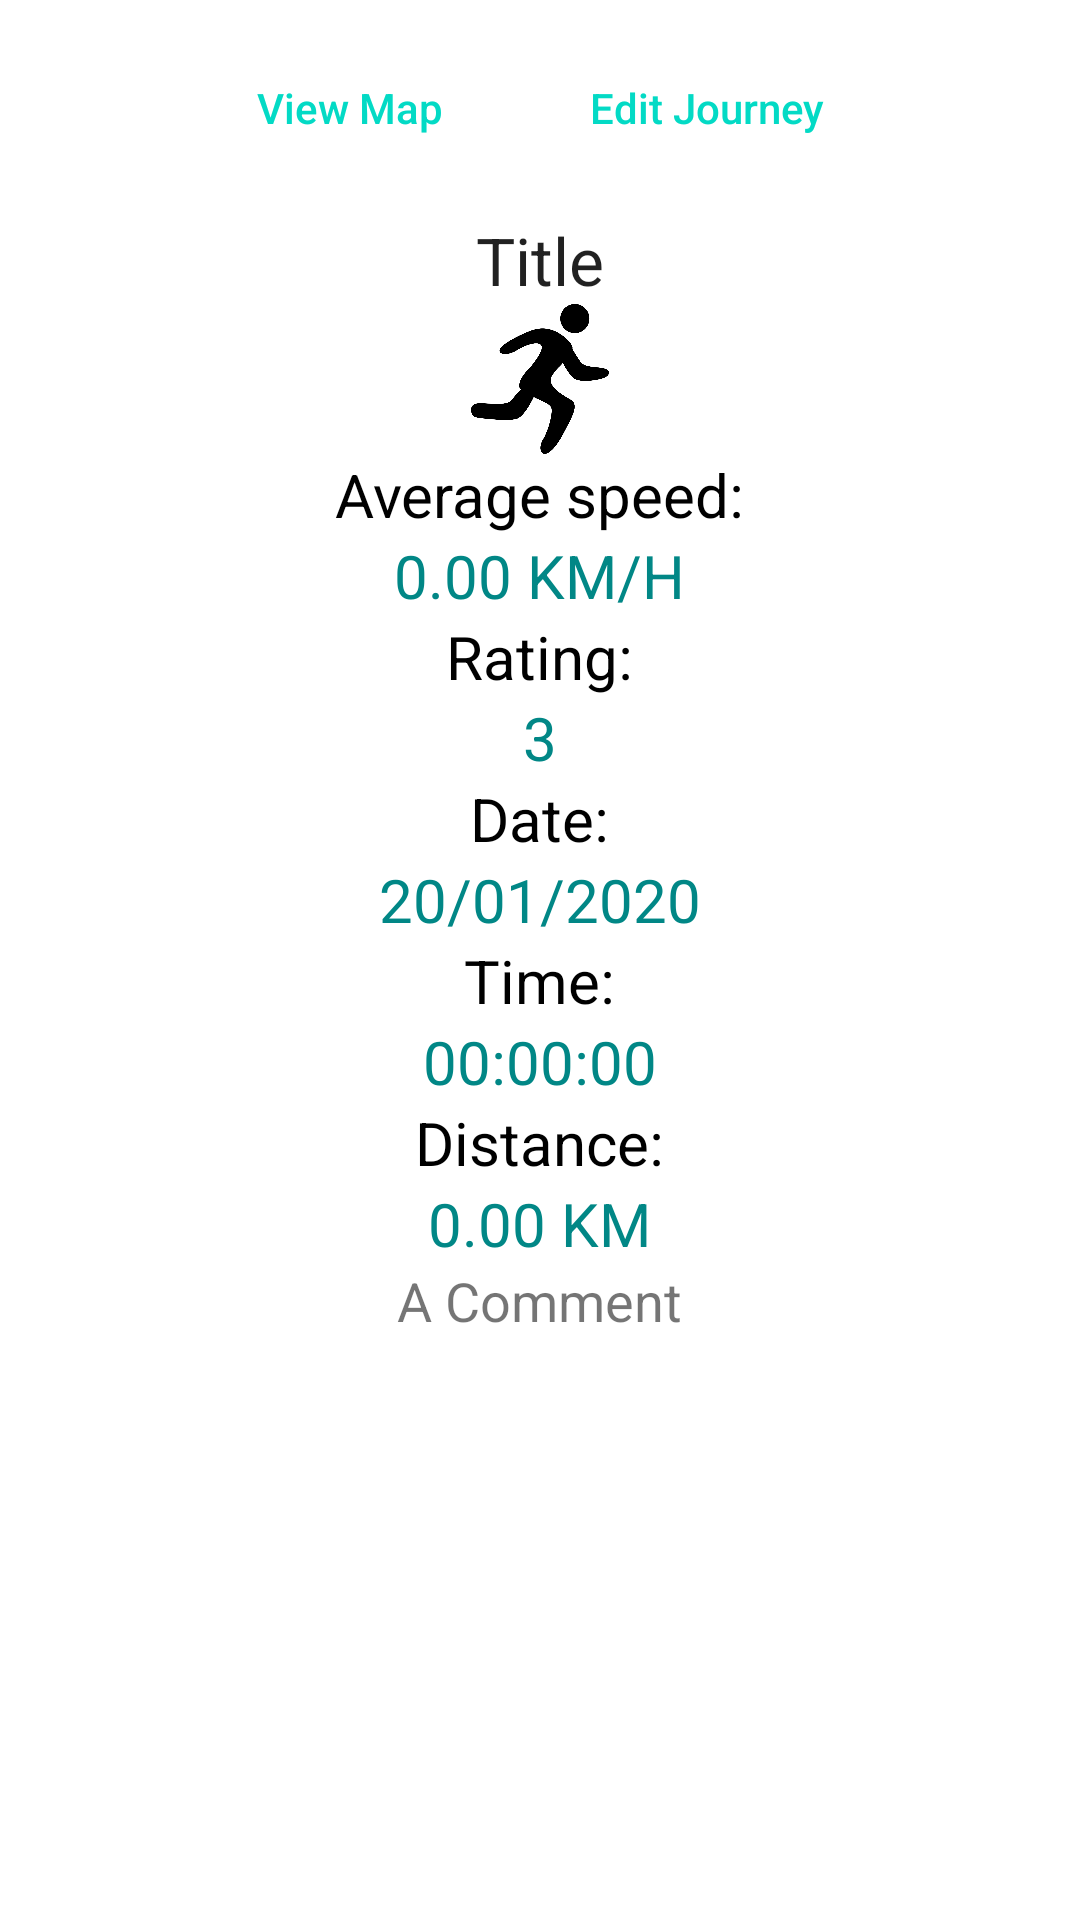

Screen size 1080px x 1920px. Icon name, then its center in pixels as (x,y):
running: (540,379)
